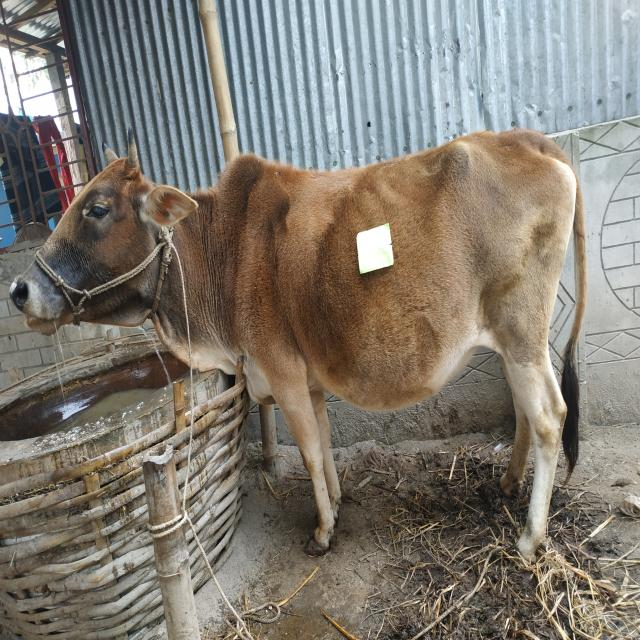badan_sapi: (234, 139, 574, 417)
sapi: (6, 119, 596, 567)
